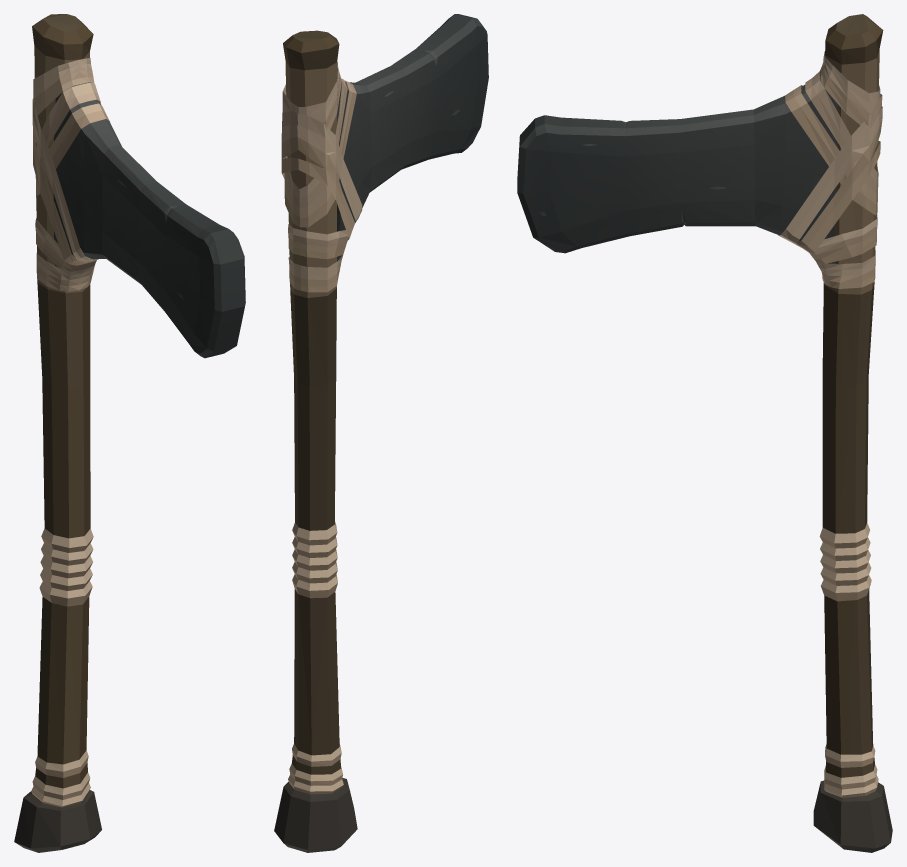
The model's file is bluntLightAncientEgyptianAxe.glb.
3 renders of one model, left to right at view 1: azimuth 30°, elevation 25°; view 2: azimuth 150°, elevation 25°; view 3: azimuth 270°, elevation 25°, orthographic. The views are drawn at different scales.
Visible parts, largest first — view 1: bluntLightAncientEgyptianAxe; view 2: bluntLightAncientEgyptianAxe; view 3: bluntLightAncientEgyptianAxe.
Part boxes in pixels (x1=…): bluntLightAncientEgyptianAxe: x1=14, y1=14, x2=245, y2=852; bluntLightAncientEgyptianAxe: x1=274, y1=14, x2=488, y2=852; bluntLightAncientEgyptianAxe: x1=517, y1=14, x2=892, y2=852.
Bounding box in the file's own units: 0.0748 × 0.8233 × 0.3407.
